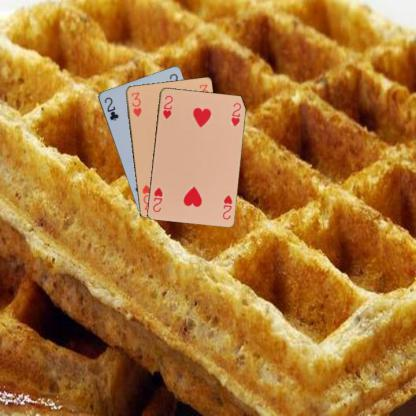2c: (102, 94, 119, 122)
2h: (219, 192, 234, 221), (160, 93, 174, 120)
3h: (129, 89, 143, 118)
